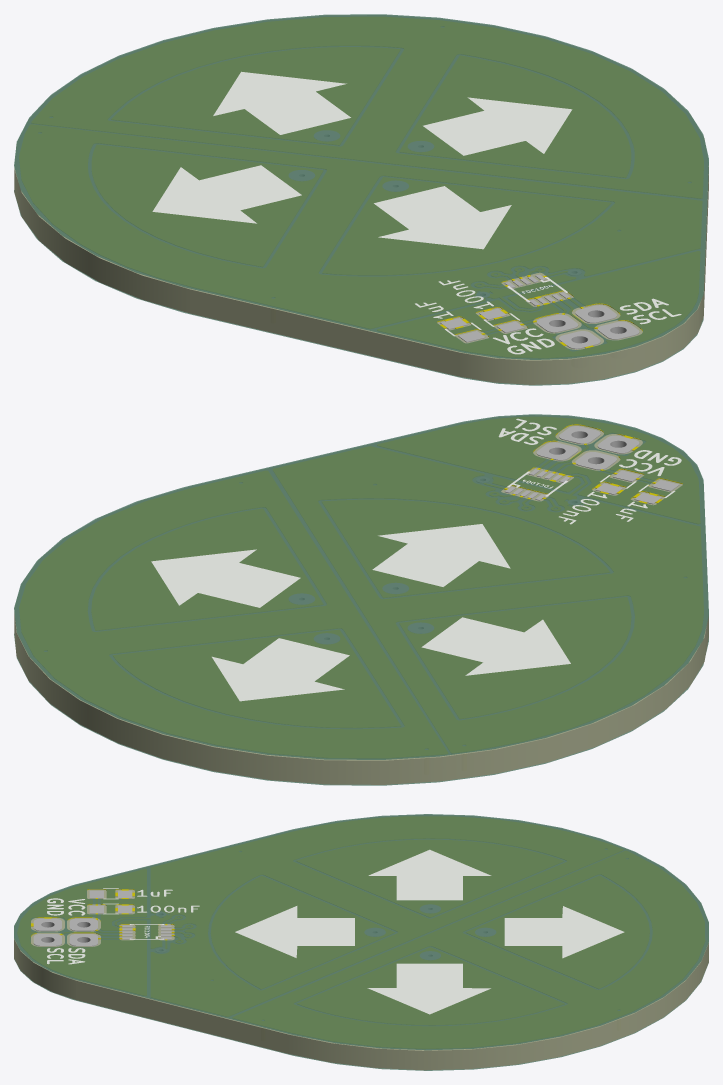
File: capsense-addon.glb
The picture shows the model from 3 angles, top to bottom: view 1: azimuth 30°, elevation 25°; view 2: azimuth 150°, elevation 25°; view 3: azimuth 270°, elevation 25°; orthographic projection. The views are drawn at different scales.
Parts seen in each view (by area): view 1: =>[0:1:1:7], =>[0:1:1:2], =>[0:1:1:9], =>[0:1:1:5]; view 2: =>[0:1:1:7], =>[0:1:1:2], =>[0:1:1:9], =>[0:1:1:5]; view 3: =>[0:1:1:7], =>[0:1:1:2], =>[0:1:1:9], =>[0:1:1:5].
Boxes of the visible parts, <box> form: =>[0:1:1:7]: <box>14,14,708,385</box>; =>[0:1:1:2]: <box>19,17,703,357</box>; =>[0:1:1:9]: <box>14,15,708,384</box>; =>[0:1:1:5]: <box>152,71,681,354</box>; =>[0:1:1:7]: <box>14,414,708,785</box>; =>[0:1:1:2]: <box>19,417,703,757</box>; =>[0:1:1:9]: <box>14,415,708,784</box>; =>[0:1:1:5]: <box>151,418,681,701</box>; =>[0:1:1:7]: <box>14,814,708,1070</box>; =>[0:1:1:2]: <box>18,817,704,1048</box>; =>[0:1:1:9]: <box>14,815,708,1070</box>; =>[0:1:1:5]: <box>47,849,624,1014</box>.
Bounding box in the file's own units: 0.0395 × 0.00166 × 0.049.
Materials: 4 (4 with a texture image).
